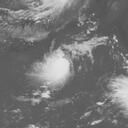cyclone: (35, 49, 74, 87)
